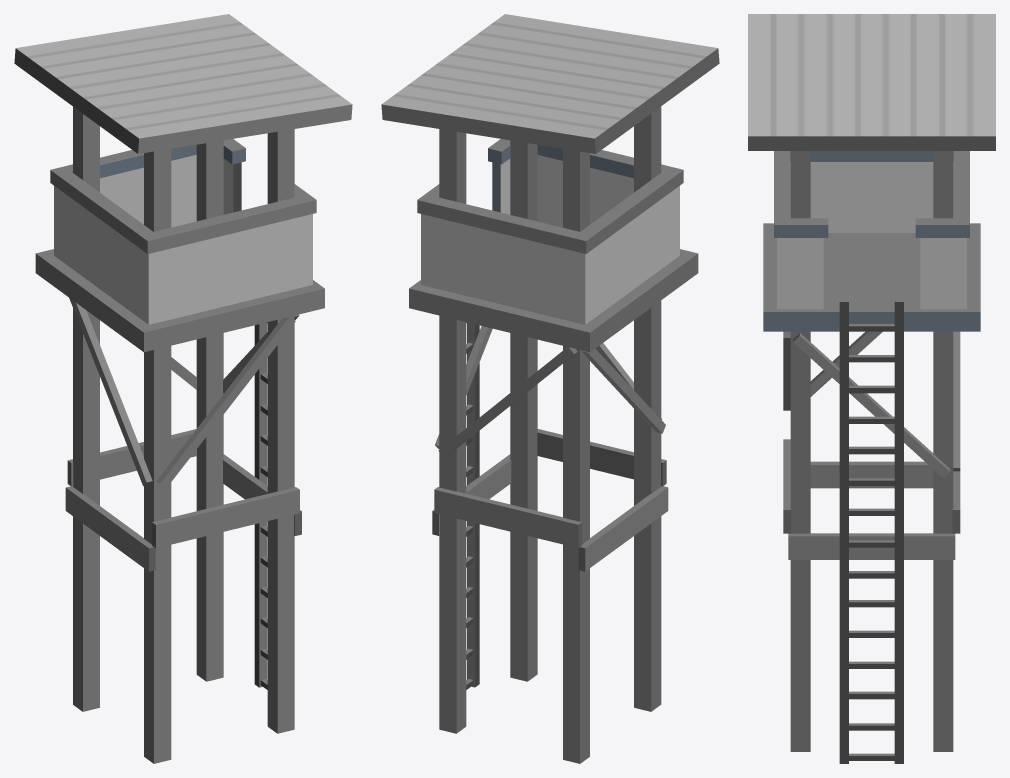
File: SM_Bld_GuardTower_01.gltf
The picture shows the model from 3 angles, left to right: view 1: azimuth 30°, elevation 25°; view 2: azimuth 150°, elevation 25°; view 3: azimuth 270°, elevation 25°; orthographic projection.
Visible parts, largest first — view 1: SM_Bld_GuardTower_01; view 2: SM_Bld_GuardTower_01; view 3: SM_Bld_GuardTower_01.
Boxes of the visible parts, <box> form: SM_Bld_GuardTower_01: <box>14,14,352,763</box>; SM_Bld_GuardTower_01: <box>381,14,719,763</box>; SM_Bld_GuardTower_01: <box>748,14,995,763</box>.
Bounding box in the file's own units: 4.53 × 13.11 × 4.52.
Materials: 1 (1 with a texture image).
